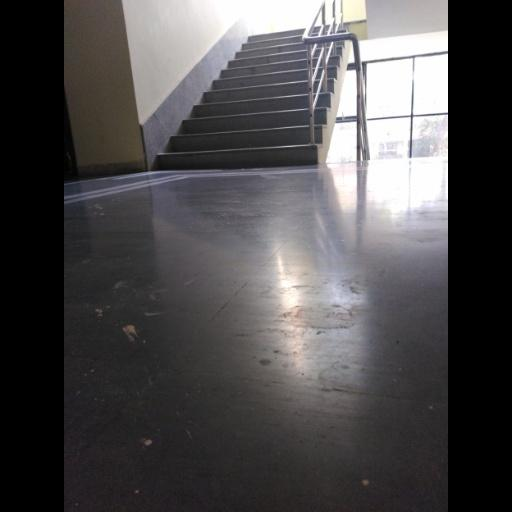stairs: (157, 29, 350, 169)
